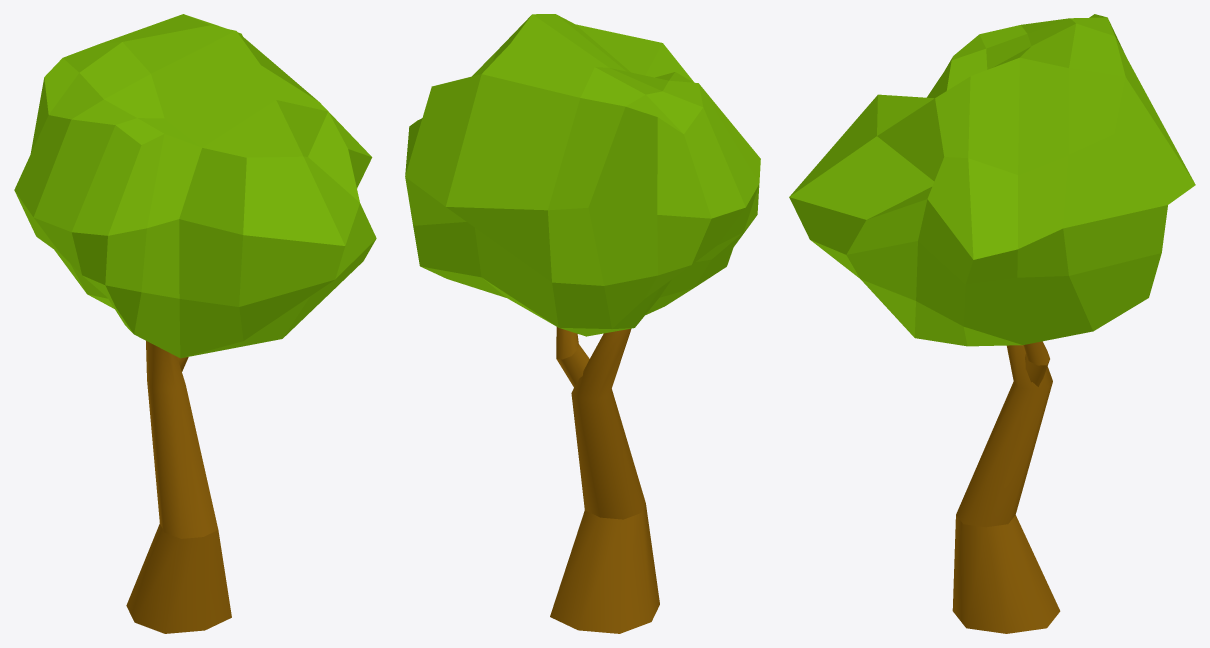
File: tree_b_01.fbx
The picture shows the model from 3 angles, left to right: view 1: azimuth 30°, elevation 25°; view 2: azimuth 150°, elevation 25°; view 3: azimuth 270°, elevation 25°; orthographic projection. The views are drawn at different scales.
Visible parts, largest first — view 1: pCube4, pCube2; view 2: pCube4, pCube2, pCube3; view 3: pCube4, pCube2, pCube3.
Part boxes in pixels (x1,y1,x2,y2): pCube4: (14,14,376,358); pCube2: (126,341,231,633); pCube4: (405,14,760,336); pCube2: (550,328,659,633); pCube3: (556,327,589,387); pCube4: (789,14,1195,346); pCube2: (952,345,1060,633); pCube3: (1023,341,1049,386).
Size of the model in its own units: 155 by 261 by 164.
